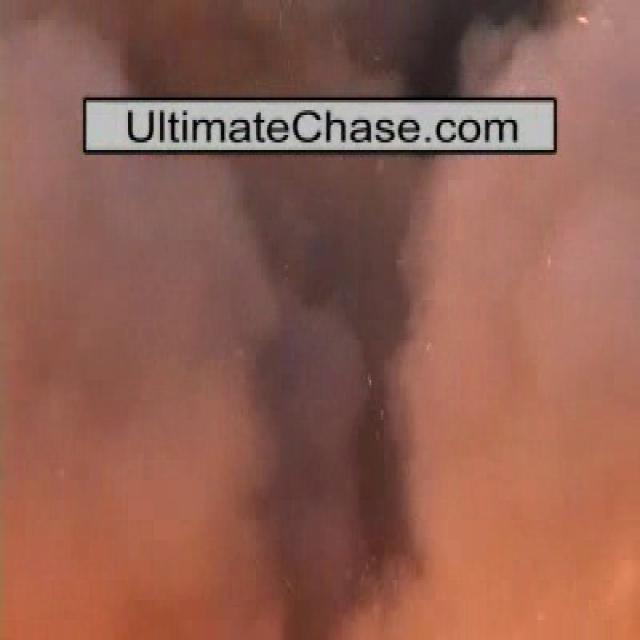Smoke: (4, 153, 258, 608), (432, 165, 622, 612)
